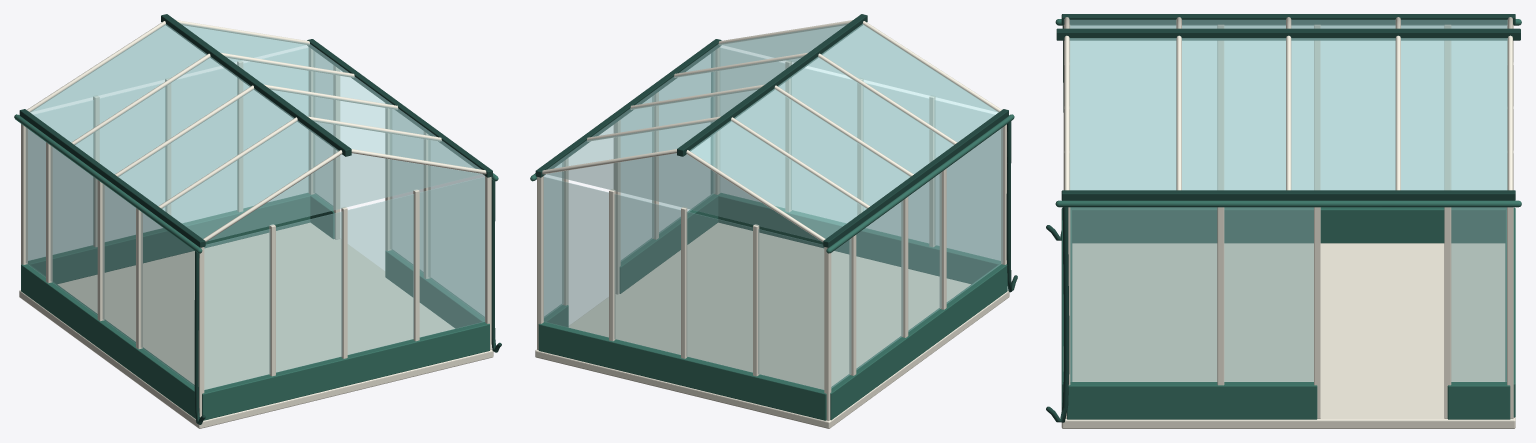
Rendered from greenhouse_shell.glb.
3 views of the same model, side by side, from view 1: azimuth 30°, elevation 25°; view 2: azimuth 150°, elevation 25°; view 3: azimuth 270°, elevation 25° (orthographic). The views are drawn at different scales.
Visible parts, largest first — view 1: End_glass.001, Foundation, End_glass, Glass_roof, Glass_side, Glass_roof.001, Glass_side.002, End_base.001, Glass_gable.001, End_base, Glass_gable, Brick_base (+35 smaller); view 2: End_glass, Foundation, End_glass.001, Glass_roof, Glass_side, Glass_roof.001, Glass_side.002, End_base, Glass_gable, End_base.001, Glass_gable.001, Brick_base (+33 smaller); view 3: Foundation, Glass_roof.001, Glass_side, Glass_side.002, Brick_base, Glass_side.001, Brick_base.002, Ridge, Eave_beam.001, Eave_beam, Glass_roof, Gutter.001 (+18 smaller).
Part boxes in pixels (left/top/right/bottom): End_glass.001: left=204, top=176, right=485, bottom=389; Foundation: left=19, top=222, right=493, bottom=428; End_glass: left=28, top=48, right=308, bottom=260; Glass_roof: left=30, top=24, right=338, bottom=238; Glass_side: left=26, top=127, right=194, bottom=386; Glass_roof.001: left=180, top=23, right=481, bottom=169; Glass_side.002: left=390, top=109, right=484, bottom=317; End_base.001: left=202, top=322, right=489, bottom=420; Glass_gable.001: left=208, top=153, right=481, bottom=240; End_base: left=28, top=193, right=310, bottom=284; Glass_gable: left=32, top=25, right=303, bottom=111; Brick_base: left=21, top=263, right=195, bottom=418; End_glass: left=543, top=177, right=824, bottom=389; Foundation: left=535, top=222, right=1009, bottom=428; End_glass.001: left=720, top=48, right=1000, bottom=260; Glass_roof: left=690, top=24, right=998, bottom=238; Glass_side: left=831, top=127, right=1002, bottom=388; Glass_roof.001: left=547, top=23, right=848, bottom=169; Glass_side.002: left=620, top=51, right=714, bottom=261; End_base: left=538, top=322, right=826, bottom=420; Glass_gable: left=546, top=153, right=820, bottom=241; End_base.001: left=718, top=193, right=1000, bottom=284; Glass_gable.001: left=724, top=25, right=996, bottom=111; Brick_base: left=830, top=263, right=1007, bottom=420; Foundation: left=1061, top=243, right=1515, bottom=428; Glass_roof.001: left=1069, top=38, right=1507, bottom=190; Glass_side: left=1070, top=25, right=1506, bottom=189; Glass_side.002: left=1070, top=207, right=1313, bottom=381; Brick_base: left=1070, top=207, right=1506, bottom=243; Glass_side.001: left=1451, top=207, right=1506, bottom=381; Brick_base.002: left=1067, top=382, right=1317, bottom=419; Ridge: left=1056, top=28, right=1520, bottom=40; Eave_beam.001: left=1061, top=190, right=1515, bottom=200; Eave_beam: left=1061, top=14, right=1515, bottom=24; Glass_roof: left=1069, top=20, right=1507, bottom=28; Gutter.001: left=1055, top=200, right=1521, bottom=207.
Bounding box in the file's own units: 4.19 × 3.26 × 4.56.
